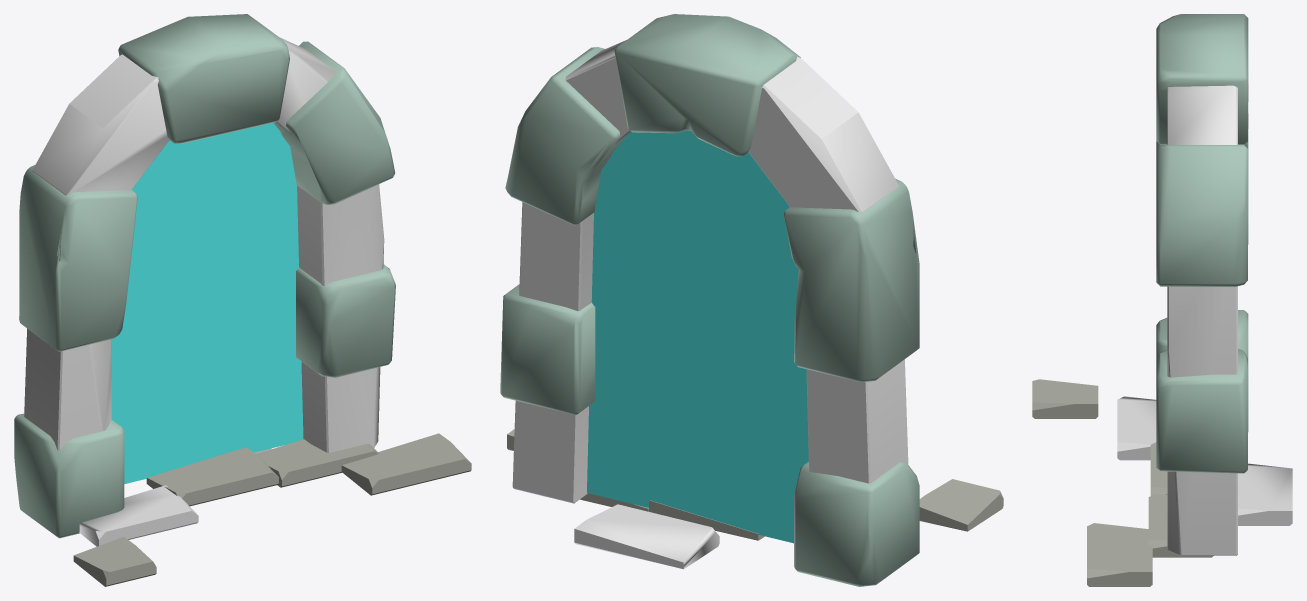
Rendered from portalLeftb.fbx.
3 renders of one model, left to right at view 1: azimuth 30°, elevation 25°; view 2: azimuth 150°, elevation 25°; view 3: azimuth 270°, elevation 25°, orthographic. The views are drawn at different scales.
Parts seen in each view (by area): view 1: PortalBlocks001.001, Plane.001, Mesh_11.001_1.001, Mesh_11.001_0.001; view 2: PortalBlocks001.001, Plane.001, Mesh_11.001_1.001, Mesh_11.001_0.001; view 3: PortalBlocks001.001, Mesh_11.001_1.001, Mesh_11.001_0.001.
Boxes of the visible parts, <box> form: PortalBlocks001.001: <box>14,14,471,586</box>; Plane.001: <box>111,123,303,483</box>; Mesh_11.001_1.001: <box>24,37,384,452</box>; Mesh_11.001_0.001: <box>79,448,271,546</box>; PortalBlocks001.001: <box>500,14,1003,586</box>; Plane.001: <box>587,130,808,543</box>; Mesh_11.001_1.001: <box>512,40,908,503</box>; Mesh_11.001_0.001: <box>574,504,719,569</box>; PortalBlocks001.001: <box>1032,14,1248,586</box>; Mesh_11.001_1.001: <box>1167,85,1237,555</box>; Mesh_11.001_0.001: <box>1117,396,1292,525</box>.
Size of the model in its own units: 366 by 402 by 209.
